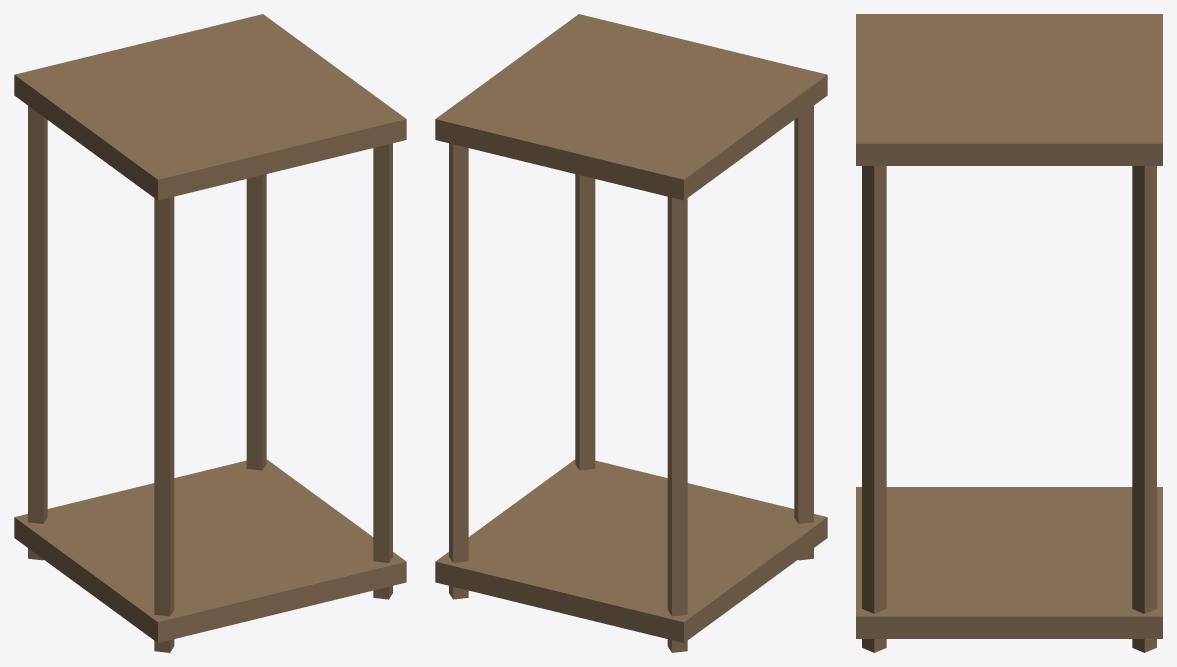
Rendered from cage.glb.
The picture shows the model from 3 angles, left to right: view 1: azimuth 30°, elevation 25°; view 2: azimuth 150°, elevation 25°; view 3: azimuth 270°, elevation 25°; orthographic projection. The views are drawn at different scales.
Parts seen in each view (by area): view 1: cage; view 2: cage; view 3: cage.
Boxes of the visible parts, bbox=[...] form: cage: bbox=[14, 14, 406, 652]; cage: bbox=[435, 14, 827, 652]; cage: bbox=[856, 14, 1162, 652].
Bounding box in the file's own units: 0.5 × 0.92 × 0.5.
